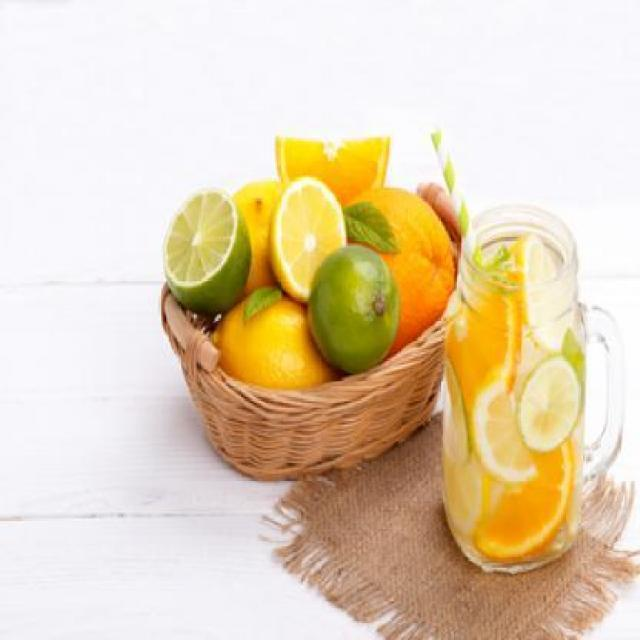Jeruk Sudah Matang: (332, 186, 454, 360), (216, 288, 332, 442)
